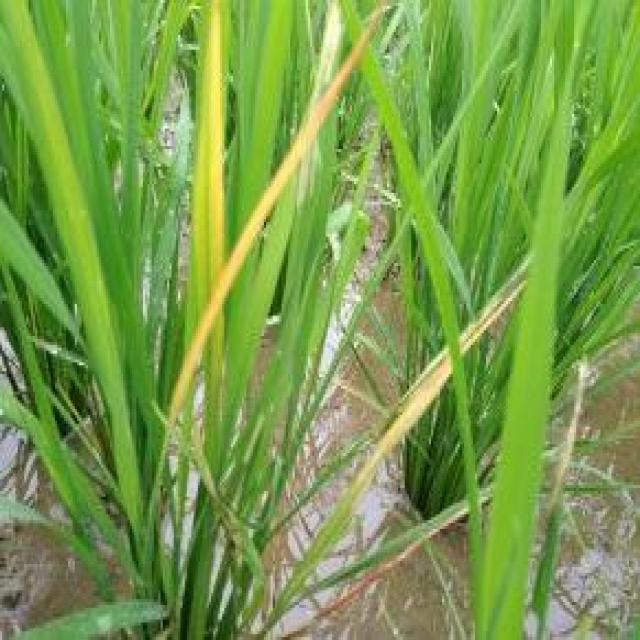Tungro: (175, 2, 370, 444), (387, 262, 522, 487)
